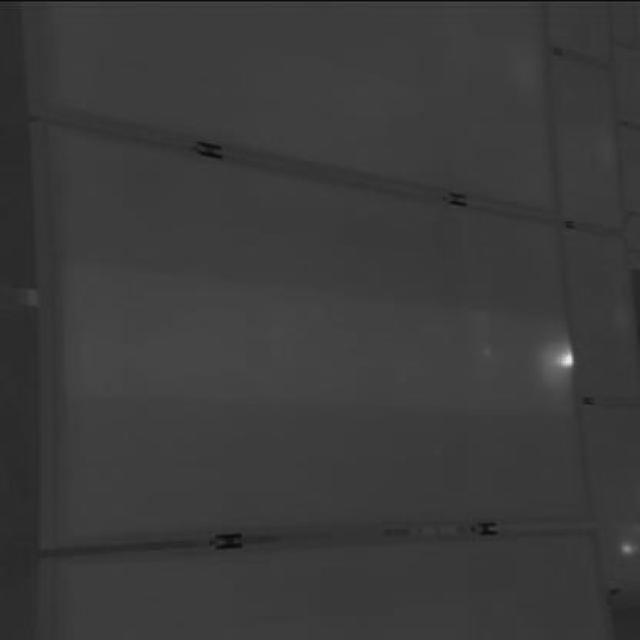hotspot: (558, 346, 579, 369)
